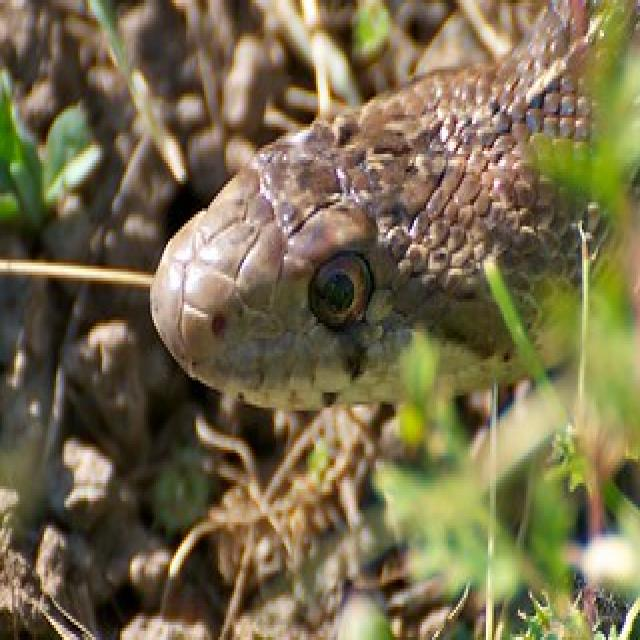Snake: (146, 0, 640, 420)
